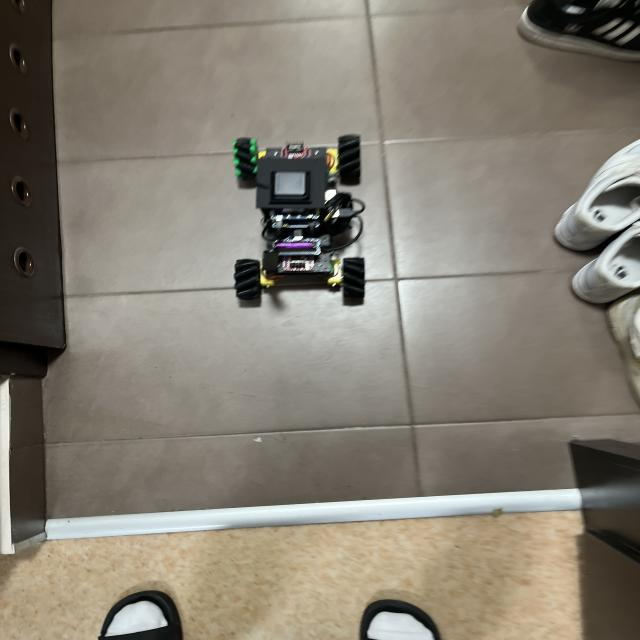robot: (233, 135, 364, 300)
